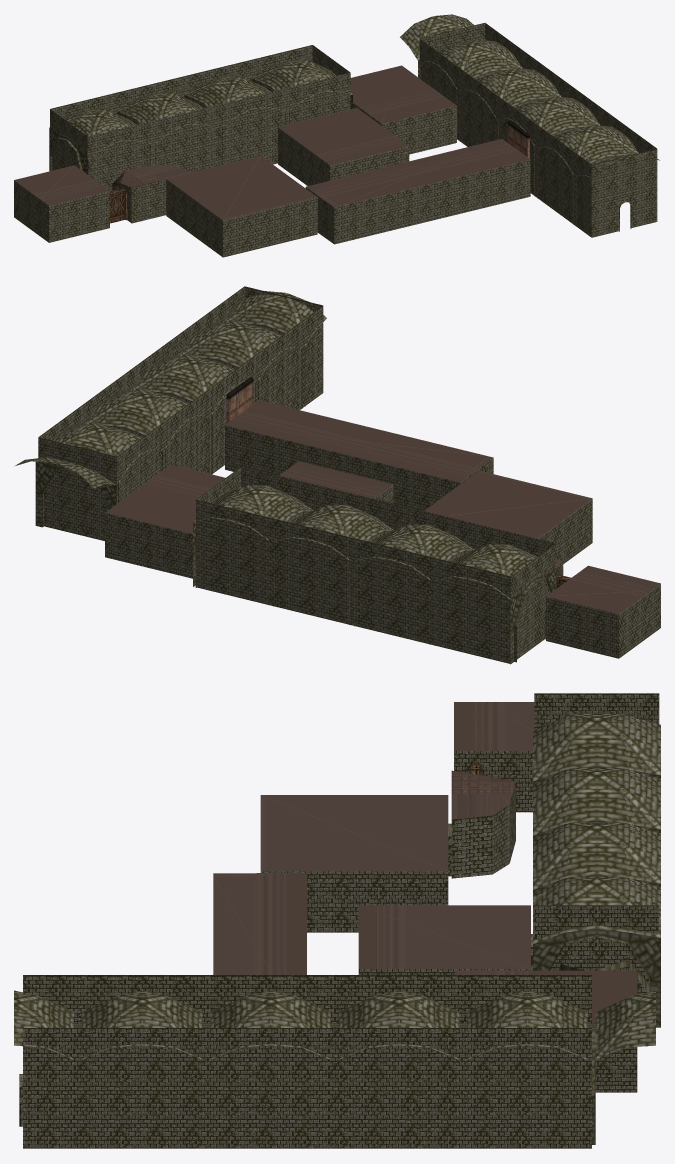
Rendered from pasillos.fbx.
3 renders of one model, top to bottom at view 1: azimuth 30°, elevation 25°; view 2: azimuth 150°, elevation 25°; view 3: azimuth 270°, elevation 25°, orthographic. The views are drawn at different scales.
Parts seen in each view (by area): view 1: hall, hall.001, room.005, room.004, arches.001, arches, room.001, room.003, room, habitacion, metaldoor.001; view 2: hall, hall.001, arches.001, room.005, arches, room, room.003, room.004, room.001, metaldoor.001; view 3: hall.001, arches, room.004, arches.001, room.001, room.005, hall, habitacion, room, room.003.
Boxes of the visible parts, x1,y1,x2,y2 form: hall: (50, 45, 350, 191); hall.001: (419, 23, 657, 237); room.005: (305, 139, 530, 244); room.004: (166, 155, 317, 257); arches.001: (400, 14, 659, 226); arches: (49, 59, 352, 174); room.001: (278, 108, 409, 185); room.003: (350, 65, 456, 154); room: (14, 165, 109, 242); habitacion: (110, 164, 190, 223); metaldoor.001: (507, 120, 529, 158); hall: (196, 466, 556, 663); hall.001: (38, 286, 323, 540); arches.001: (14, 291, 326, 527); room.005: (225, 400, 493, 510); arches: (193, 485, 556, 664); room: (545, 565, 660, 658); room.003: (105, 464, 225, 578); room.004: (424, 470, 592, 563); room.001: (279, 461, 393, 503); metaldoor.001: (226, 377, 253, 423); hall.001: (19, 975, 591, 1148); arches: (533, 713, 660, 1027); room.004: (260, 795, 451, 932); arches.001: (14, 990, 655, 1144); room.001: (358, 905, 532, 974); room.005: (213, 873, 306, 974); hall: (534, 693, 659, 994); habitacion: (451, 765, 515, 878); room: (454, 702, 534, 812); room.003: (455, 970, 637, 1092).
Bounding box in the file's own units: 4192 × 2969 × 719.
11 materials, 11 textured.
